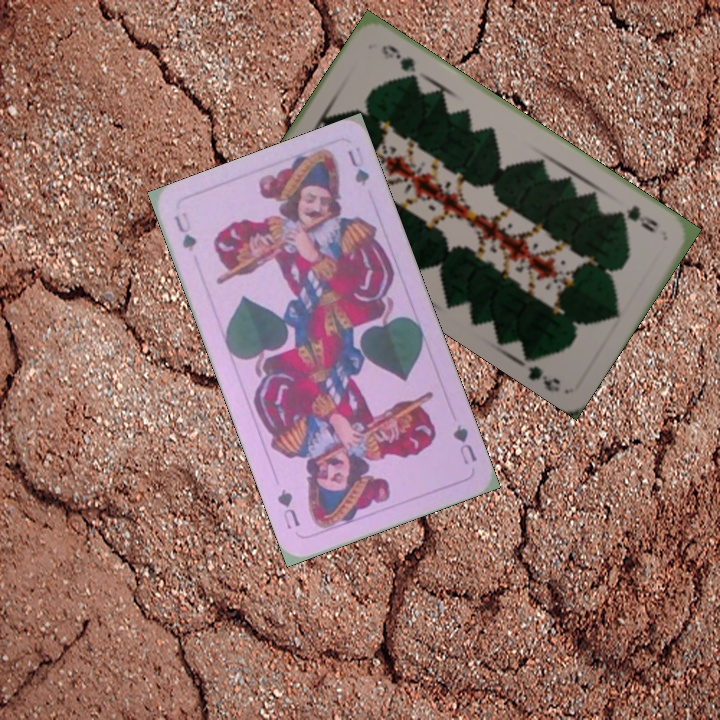G9: (614, 201, 661, 236)
GU: (448, 420, 480, 468), (169, 208, 199, 254)
